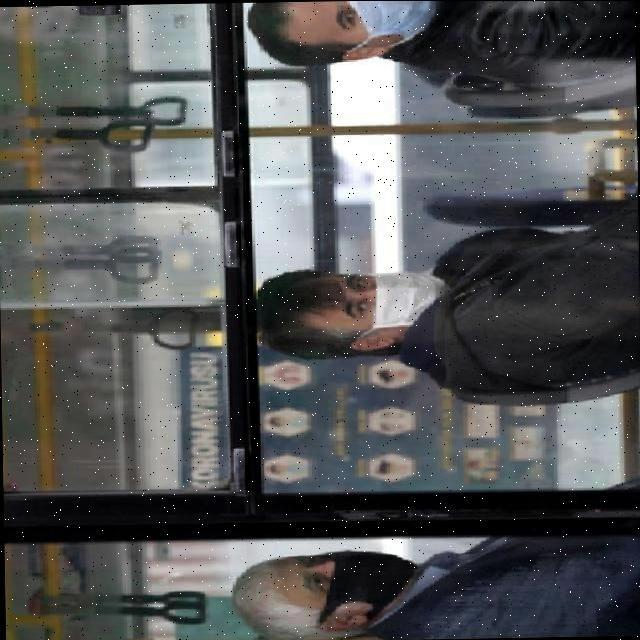mask: (376, 270, 446, 328), (341, 548, 402, 606), (358, 0, 431, 33)
no_gloves: (256, 274, 322, 344), (234, 570, 292, 634), (253, 0, 288, 54)
